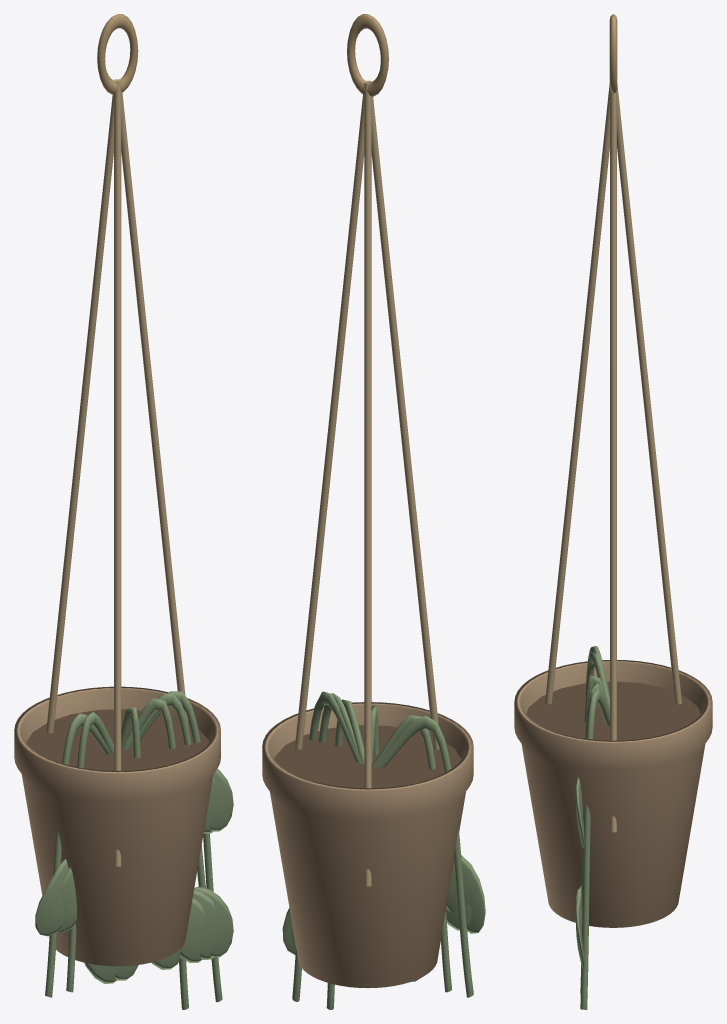
Rendered from hangplant.glb.
3 views of the same model, side by side, from view 1: azimuth 30°, elevation 25°; view 2: azimuth 150°, elevation 25°; view 3: azimuth 270°, elevation 25° (orthographic). The views are drawn at different scales.
Visible parts, largest first — view 1: hanging-vessel-hollow-vessel, suspension-rope-1, hanging-vessel-contained-soil, suspension-rope-2, suspension-rope-0, mount-hook, trailing-stem-4, trailing-leaf-4-1, trailing-stem-0, trailing-stem-1, trailing-stem-3, trailing-leaf-0-2 (+6 smaller); view 2: hanging-vessel-hollow-vessel, hanging-vessel-contained-soil, suspension-rope-2, suspension-rope-0, suspension-rope-1, trailing-stem-4, mount-hook, trailing-leaf-4-1, trailing-stem-1, trailing-stem-0, trailing-stem-3, trailing-stem-5; view 3: hanging-vessel-hollow-vessel, hanging-vessel-contained-soil, suspension-rope-0, suspension-rope-1, suspension-rope-2, trailing-stem-0, mount-hook, trailing-stem-1.
Boxes of the visible parts, x1,y1,x2,y2 form: hanging-vessel-hollow-vessel: (14,686,220,966); suspension-rope-1: (114,81,121,866); hanging-vessel-contained-soil: (26,709,208,770); suspension-rope-2: (46,79,117,733); suspension-rope-0: (117,79,188,726); mount-hook: (97,14,138,94); trailing-stem-4: (45,713,111,997); trailing-leaf-4-1: (35,859,68,936); trailing-stem-0: (140,691,222,1002); trailing-stem-1: (66,711,113,992); trailing-stem-3: (124,698,188,1009); trailing-leaf-0-2: (194,886,233,957); hanging-vessel-hollow-vessel: (262,702,473,988); hanging-vessel-contained-soil: (274,725,461,787); suspension-rope-2: (364,83,371,886); suspension-rope-0: (295,80,367,749); suspension-rope-1: (368,80,439,749); trailing-stem-4: (374,715,473,997); mount-hook: (347,14,388,96); trailing-leaf-4-1: (446,855,485,933); trailing-stem-1: (371,714,452,992); trailing-stem-0: (292,691,360,1001); trailing-stem-3: (326,699,364,1009); trailing-stem-5: (318,693,362,763); hanging-vessel-hollow-vessel: (514,660,712,927); hanging-vessel-contained-soil: (526,681,700,740); suspension-rope-0: (610,91,616,832); suspension-rope-1: (545,84,610,704); suspension-rope-2: (616,84,681,704); trailing-stem-0: (580,689,609,1009); mount-hook: (609,14,617,93); trailing-stem-1: (585,652,609,706).
Bounding box in the file's own units: 0.3192 × 1.53 × 0.288.
